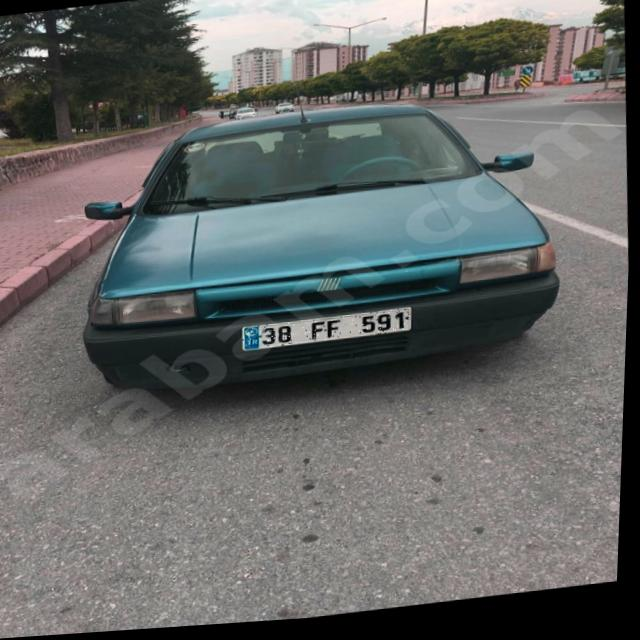license_plate: (244, 313, 415, 354)
